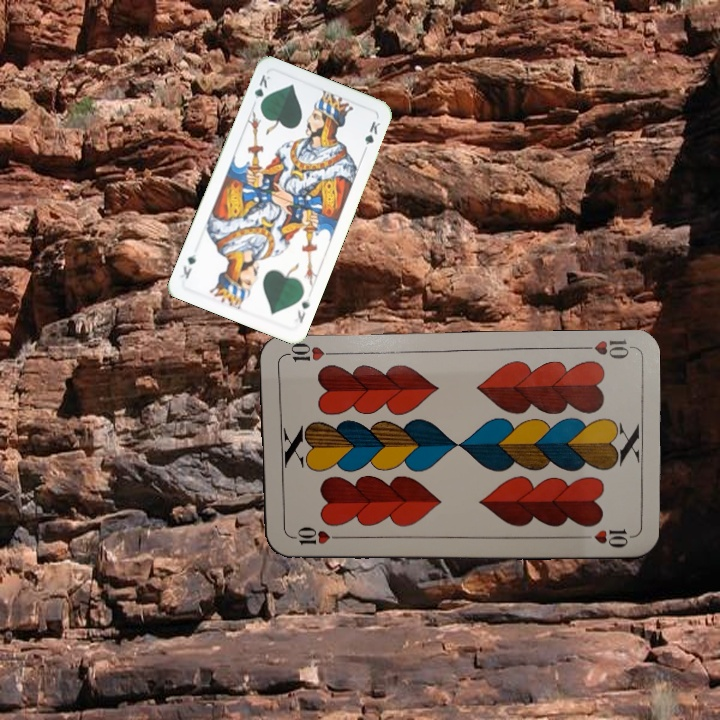GK: (250, 70, 273, 111), (293, 294, 313, 326)
H10: (574, 337, 633, 362), (286, 526, 346, 547)
